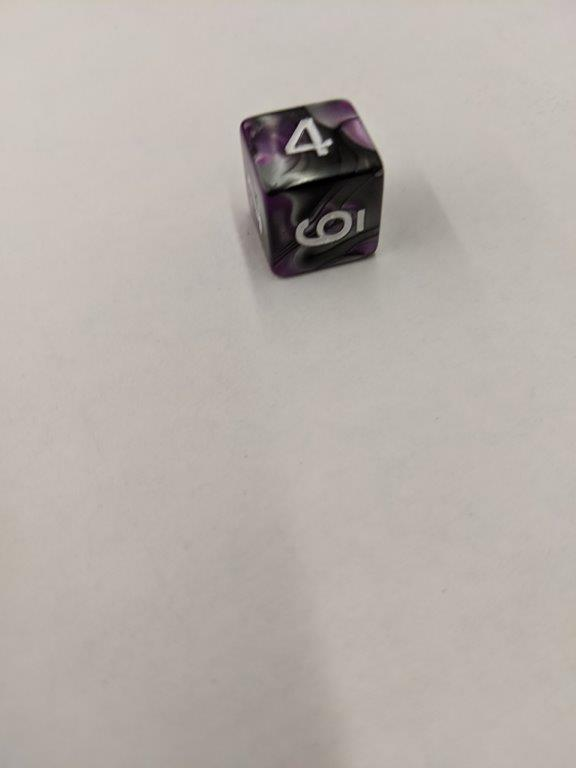d6-4: (239, 97, 384, 285)
